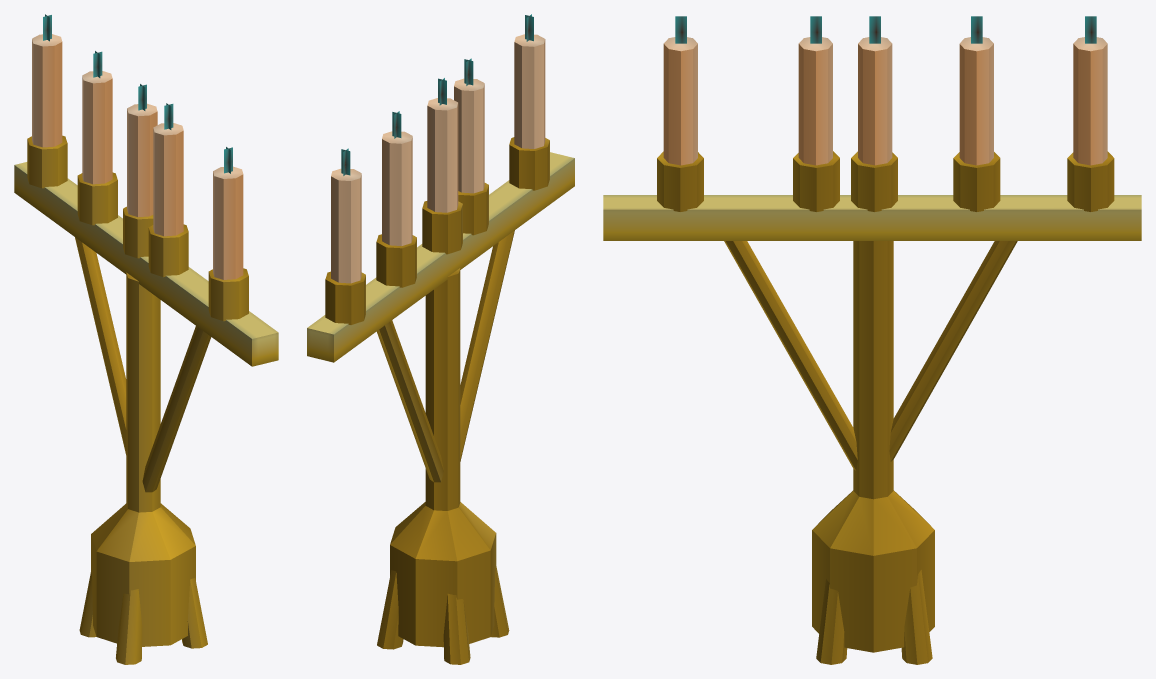
The model's file is Candle_336x5.obj.
3 views of the same model, side by side, from view 1: azimuth 30°, elevation 25°; view 2: azimuth 150°, elevation 25°; view 3: azimuth 270°, elevation 25° (orthographic). The views are drawn at different scales.
Parts seen in each view (by area): view 1: Candle_336x5; view 2: Candle_336x5; view 3: Candle_336x5.
Boxes of the visible parts, x1=… form: Candle_336x5: x1=14, y1=14, x2=278, y2=664; Candle_336x5: x1=307, y1=14, x2=574, y2=664; Candle_336x5: x1=603, y1=16, x2=1141, y2=664.
Bounding box in the file's own units: 0.2955 × 1.66 × 1.3.
